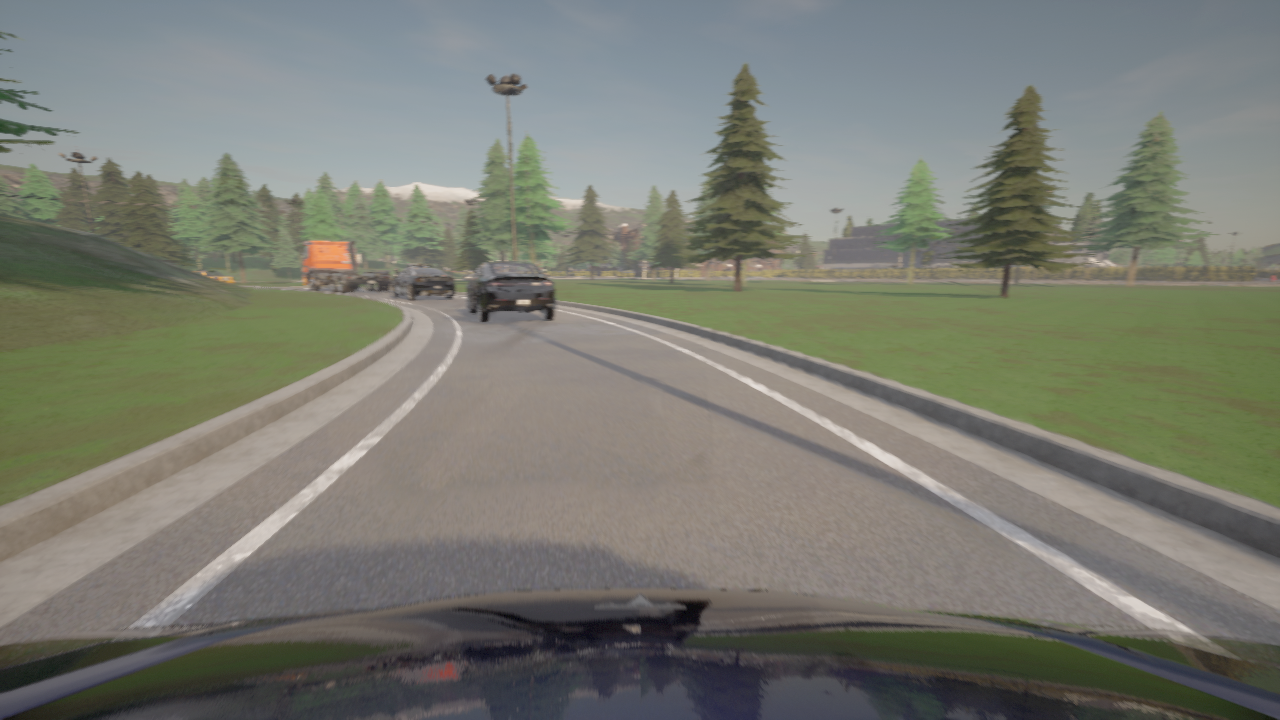cyclist: (0, 588, 1279, 719), (463, 262, 555, 322), (298, 240, 390, 293), (390, 264, 454, 300), (193, 269, 234, 284)
